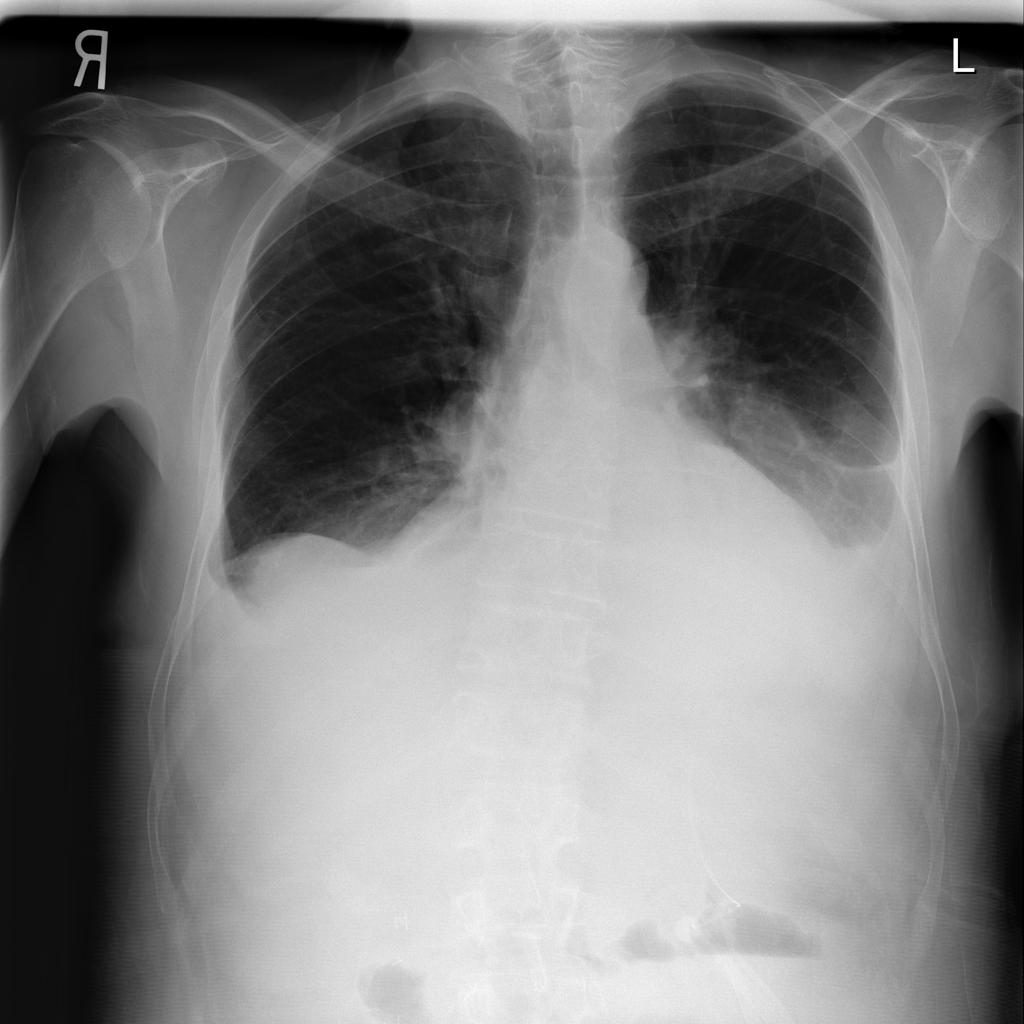nodule: (689, 375, 831, 497)
